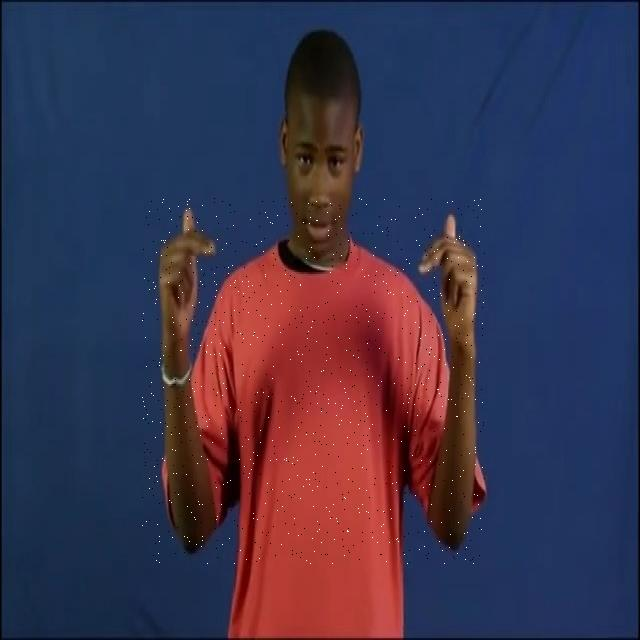bacon: (142, 198, 485, 564)
